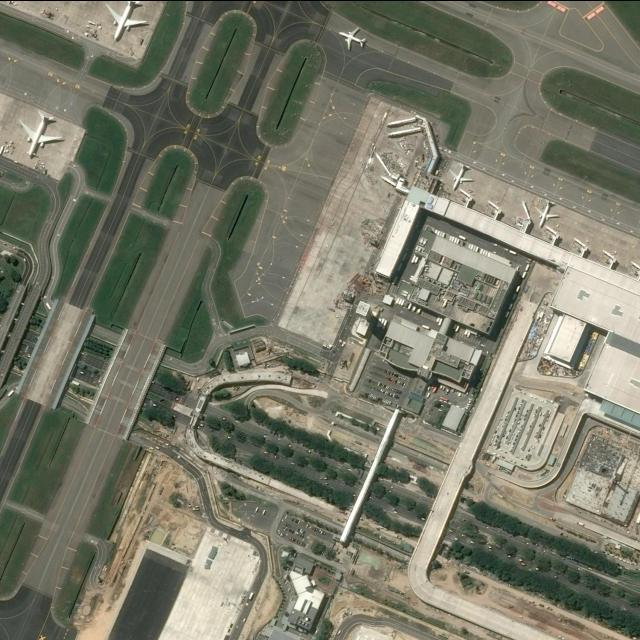Aircraft: (15, 111, 62, 156), (103, 1, 148, 41), (533, 198, 558, 228), (338, 26, 368, 50), (448, 162, 472, 190)
